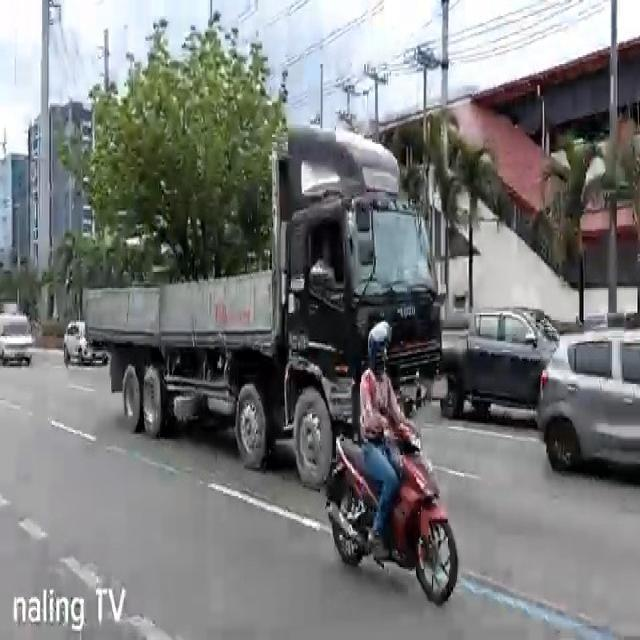car: (536, 329, 640, 481), (442, 304, 558, 424), (0, 310, 35, 370)
motorcycle: (323, 321, 459, 608)
truck: (82, 118, 444, 488)
